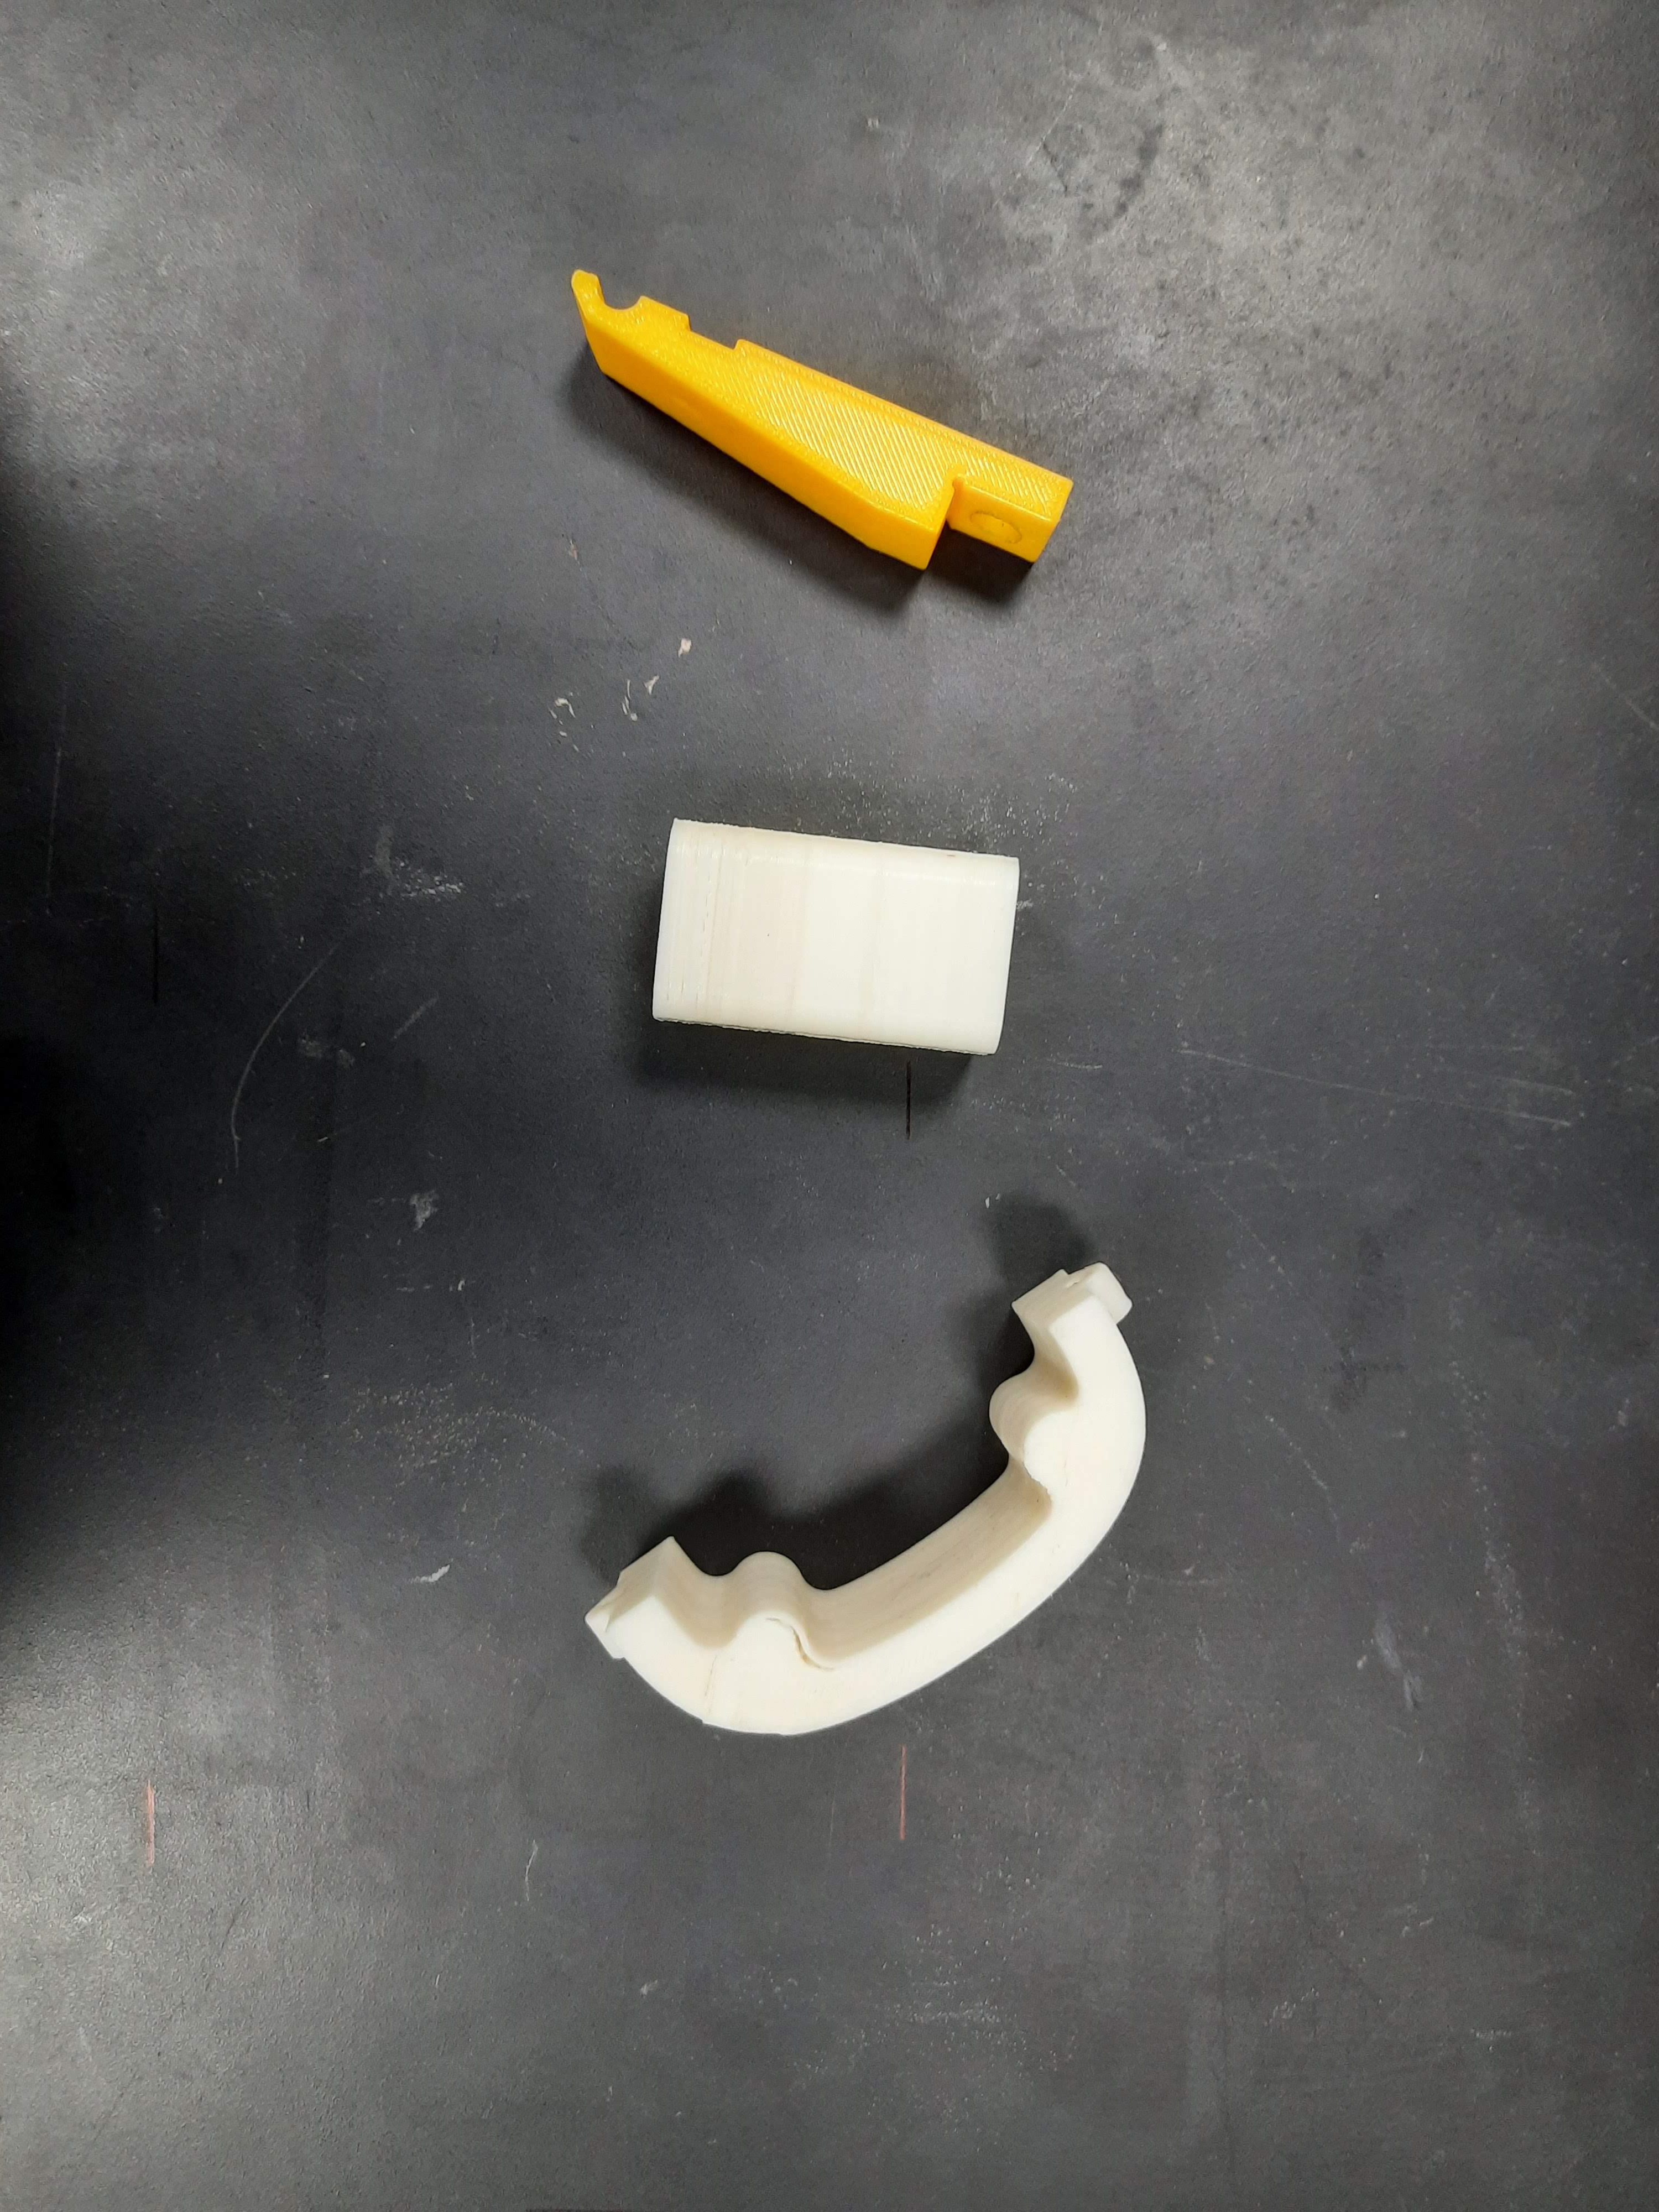ARC: (566, 1237, 1251, 1825)
CUBE: (652, 819, 1025, 1049)
YELLOW: (519, 268, 1075, 611)
